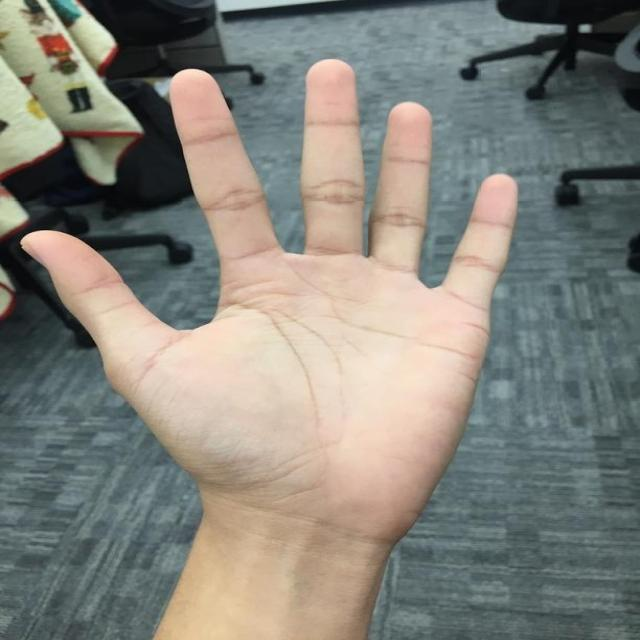no-gloves: (18, 58, 520, 550)
